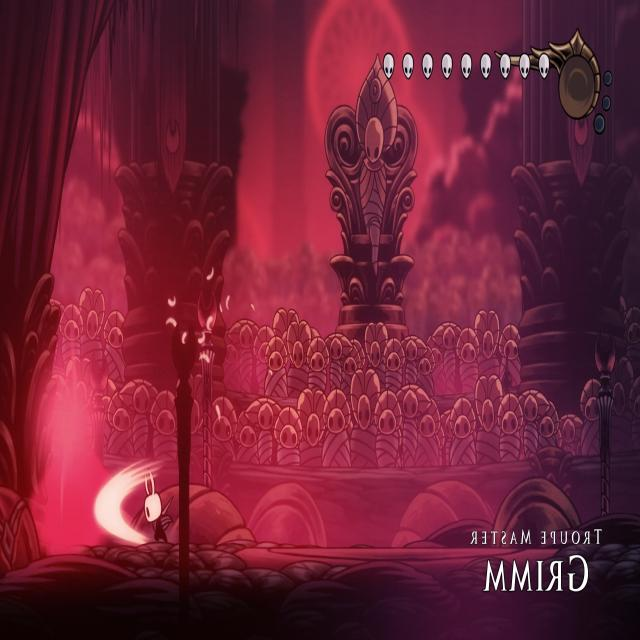Player: (139, 465, 174, 545)
